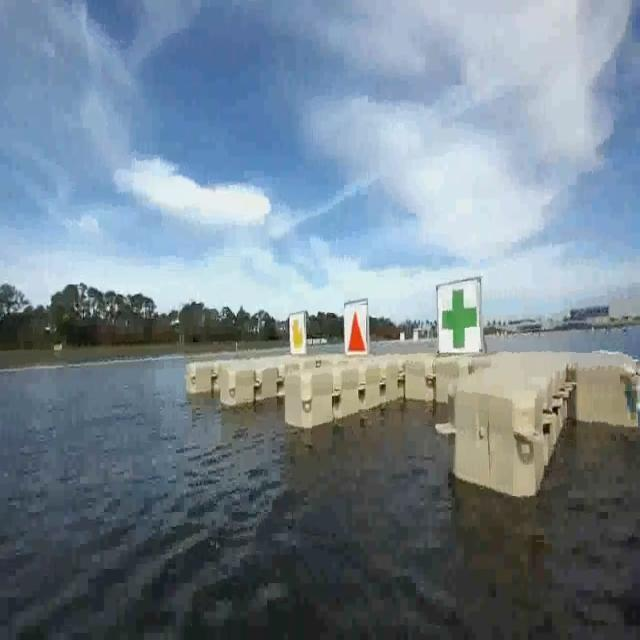blue-cross: (435, 284, 485, 352)
red-dot: (340, 301, 370, 358)
yellow-duck: (285, 313, 308, 353)
